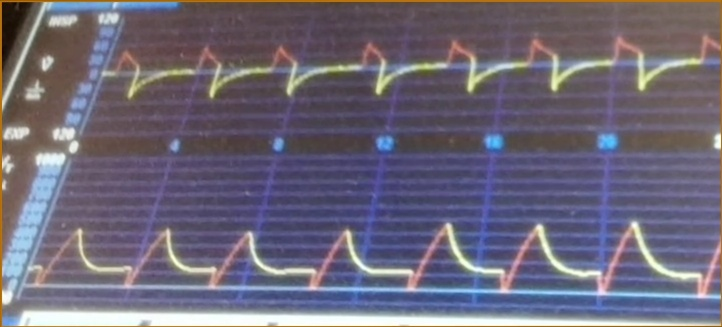Flow: (114, 22, 722, 125)
Leakage Volume: (51, 195, 722, 310)
